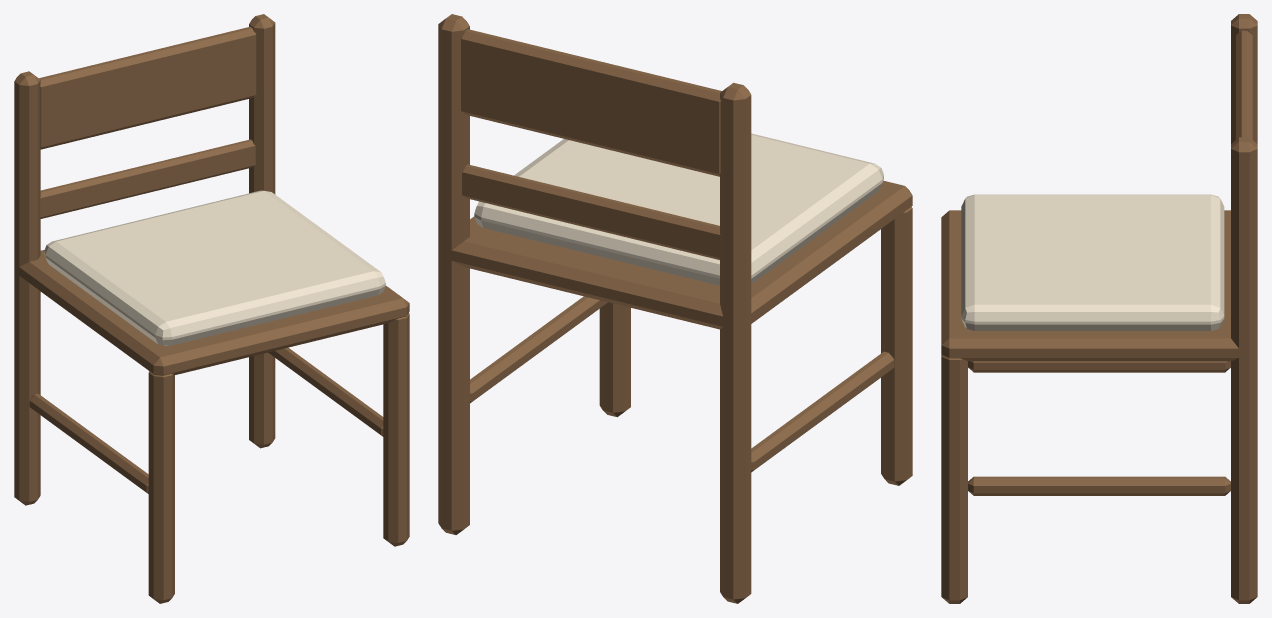
File: dining_chair.glb
3 renders of one model, left to right at view 1: azimuth 30°, elevation 25°; view 2: azimuth 150°, elevation 25°; view 3: azimuth 270°, elevation 25°, orthographic. The views are drawn at different scales.
Visible parts, largest first — view 1: dining_chair_Body; view 2: dining_chair_Body; view 3: dining_chair_Body.
Part boxes in pixels (bbox=[...]): dining_chair_Body: bbox=[14, 14, 409, 603]; dining_chair_Body: bbox=[438, 14, 912, 603]; dining_chair_Body: bbox=[941, 14, 1257, 603].
Size of the model in its own units: 0.5 by 0.8 by 0.496.
